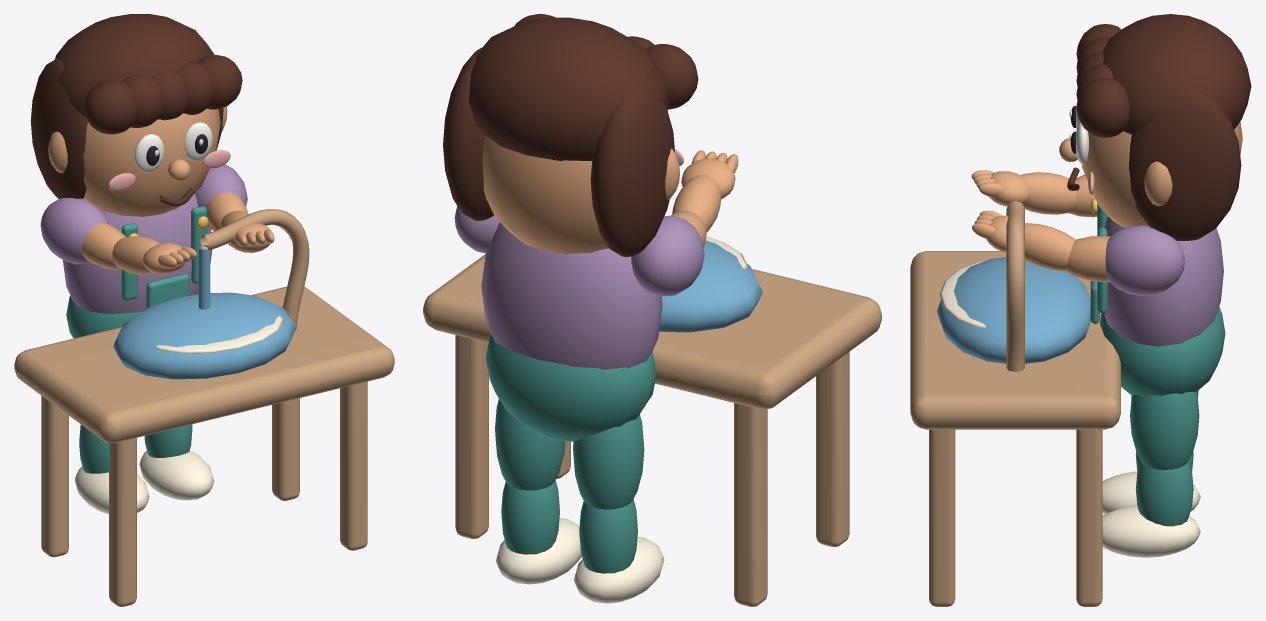
The model's file is mommy-wash.glb.
3 renders of one model, left to right at view 1: azimuth 30°, elevation 25°; view 2: azimuth 150°, elevation 25°; view 3: azimuth 270°, elevation 25°, orthographic. The views are drawn at different scales.
Parts seen in each view (by area): view 1: table top, basin, clay head, hair cap, soft shirt, bob hair, table leg.002, table leg, table leg.001, tap, shirt sleeve, little shoe.001 (+24 smaller); view 2: table top, hair cap, soft shirt, overalls, bob hair, clay head, table leg.001, table leg.003, table leg, basin, trouser leg, bob hair.001 (+10 smaller); view 3: table top, bob hair.001, hair cap, basin, soft shirt, overalls, table leg.003, table leg.002, trouser leg.001, shirt sleeve.001, clay head, little shoe.001 (+14 smaller).
Boxes of the visible parts, x1,y1,x2,y2 form: table top: (14,286,394,443); basin: (113,292,295,379); clay head: (82,108,220,216); hair cap: (55,14,214,117); soft shirt: (62,193,212,314); bob hair: (30,58,87,198); table leg.002: (340,381,367,550); table leg: (109,438,136,606); table leg.001: (41,395,68,557); tap: (200,209,309,329); shirt sleeve: (40,198,109,264); little shoe.001: (139,450,214,500); table top: (423,254,881,409); hair cap: (468,17,669,160); soft shirt: (481,222,662,369); overalls: (485,335,656,441); bob hair: (590,87,674,256); clay head: (482,135,608,254); table leg.001: (734,403,767,606); table leg.003: (455,335,488,538); table leg: (816,352,849,546); basin: (659,240,762,332); trouser leg: (573,414,644,509); bob hair.001: (443,47,493,220); table top: (910,251,1120,429); bob hair.001: (1128,91,1241,240); hair cap: (1103,14,1251,134); basin: (937,257,1090,363); soft shirt: (1104,216,1223,346); overalls: (1100,306,1225,396); table leg.003: (1076,429,1102,606); table leg.002: (929,429,955,606); trouser leg.001: (1130,392,1199,469); shirt sleeve.001: (1105,225,1184,295); clay head: (1081,121,1242,227); little shoe.001: (1102,505,1200,557).
Bounding box in the file's own units: 1.4 × 2.17 × 1.3.
